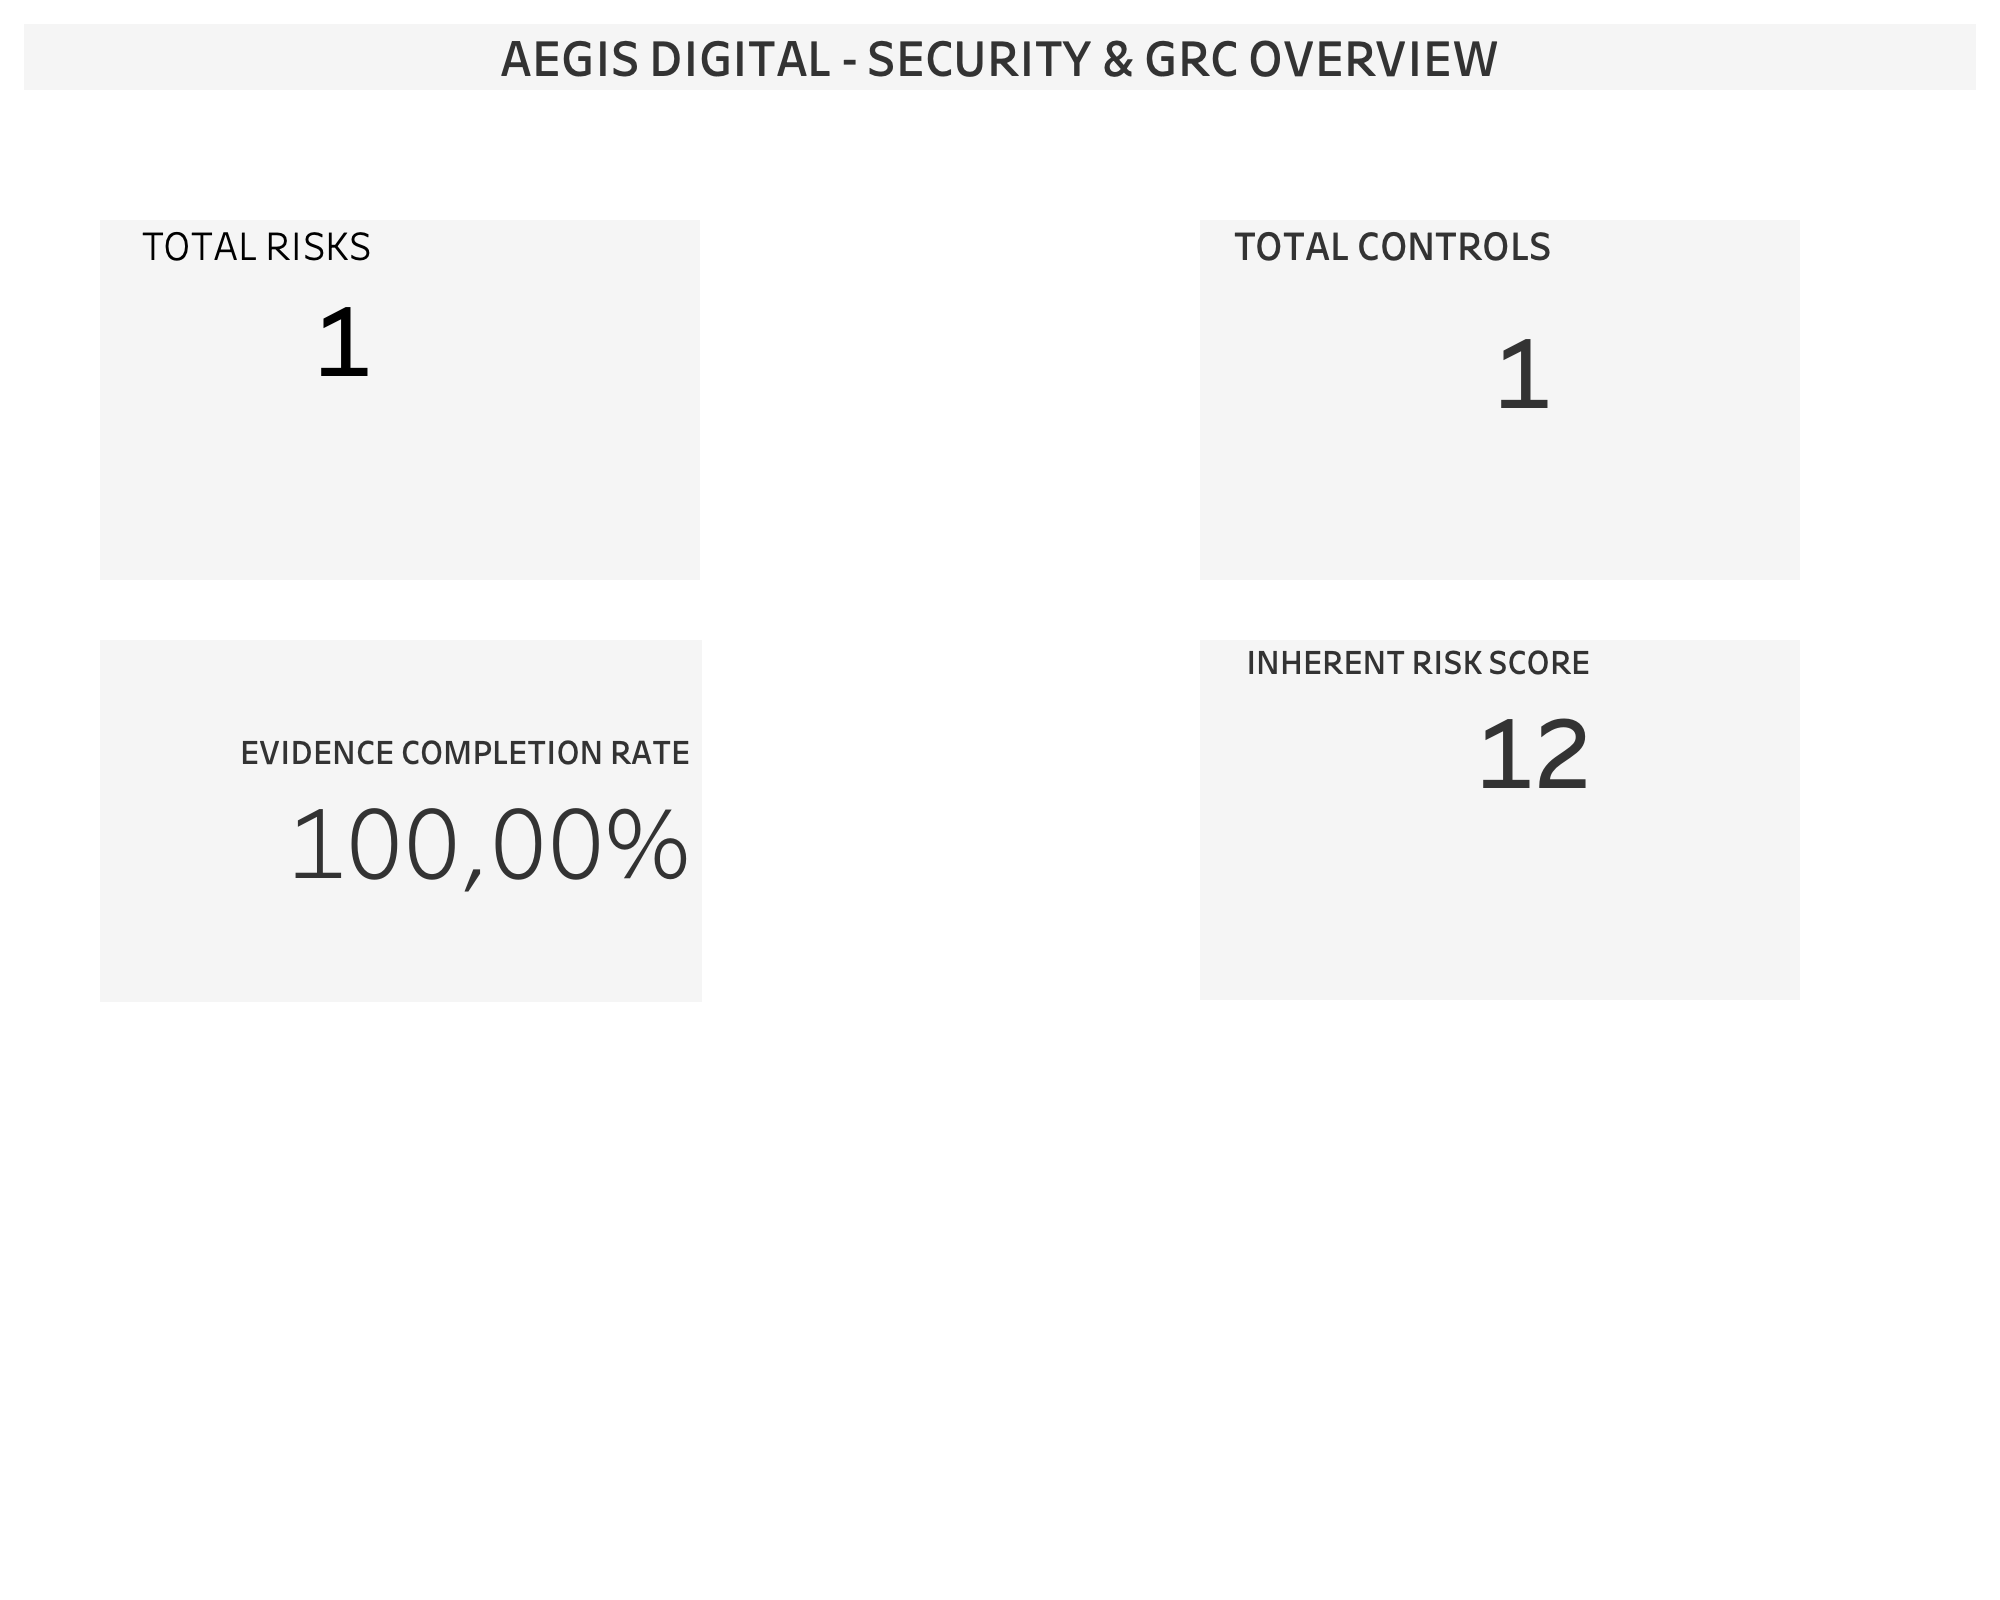

This screenshot's page, from the dashboard's own definition file:
{"tool":"tableau","page":{"name":"AEGIS DIGITAL - SECURITY & GRC OVERVIEW","canvas":[1000,800],"ordinal":0},"visuals":[{"type":"title","box":[8,8,984,41]},{"type":"worksheet","title":"KPI - Total Risks","mark":"Automatic","box":[50,110,300,180]},{"type":"worksheet","title":"KPI - Total Controls","mark":"Automatic","box":[600,110,300,180]},{"type":"worksheet","title":"KPI - Evidence Completion Rate","mark":"Text","box":[50,320,300,180]},{"type":"worksheet","title":"KPI - Risk Exposure","mark":"Automatic","box":[600,320,300,180]}]}

Visuals, with their boxes in screenshot pixels (x1, y1, x2, y2), scaled from the page's 1000x800 canvas onto the 2000x1600 screenshot:
title: [16, 16, 1984, 98]
"KPI - Total Risks" worksheet: [100, 220, 700, 580]
"KPI - Total Controls" worksheet: [1200, 220, 1800, 580]
"KPI - Evidence Completion Rate" worksheet (Text marks): [100, 640, 700, 1000]
"KPI - Risk Exposure" worksheet: [1200, 640, 1800, 1000]
